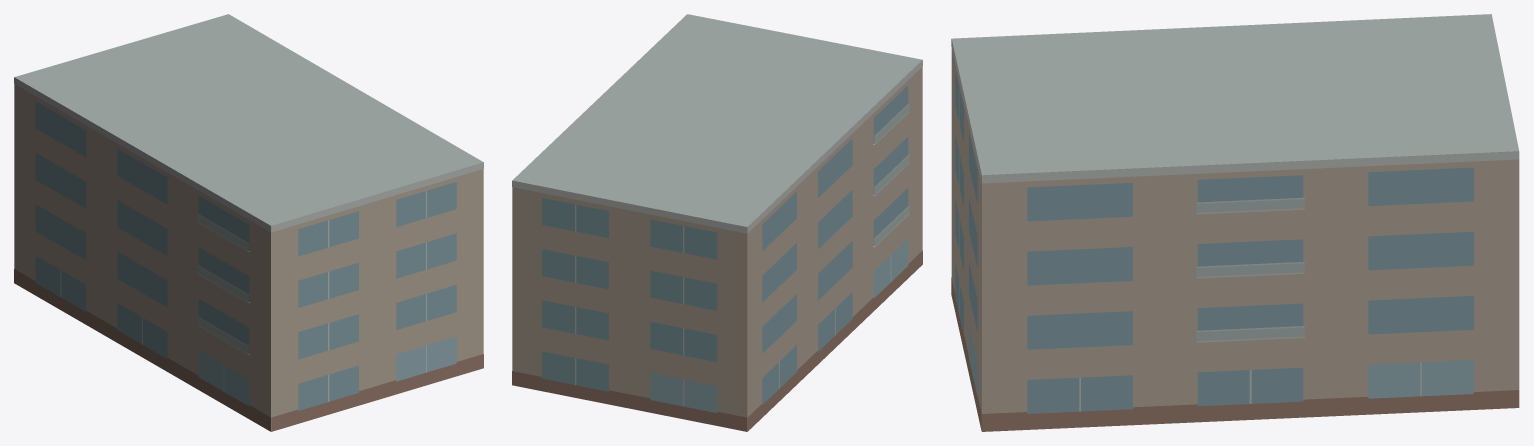
File: survey-upis-32621864.glb
The picture shows the model from 3 angles, left to right: view 1: azimuth 30°, elevation 25°; view 2: azimuth 150°, elevation 25°; view 3: azimuth 270°, elevation 25°; orthographic projection. The views are drawn at different scales.
Visible parts, largest first — view 1: survey-upis-32621864.tmp; view 2: survey-upis-32621864.tmp; view 3: survey-upis-32621864.tmp.
Part boxes in pixels (left/top/right/bottom): survey-upis-32621864.tmp: left=14, top=14, right=483, bottom=431; survey-upis-32621864.tmp: left=512, top=14, right=922, bottom=431; survey-upis-32621864.tmp: left=951, top=14, right=1519, bottom=431.
Bounding box in the file's own units: 10.25 × 7.6 × 15.25.
